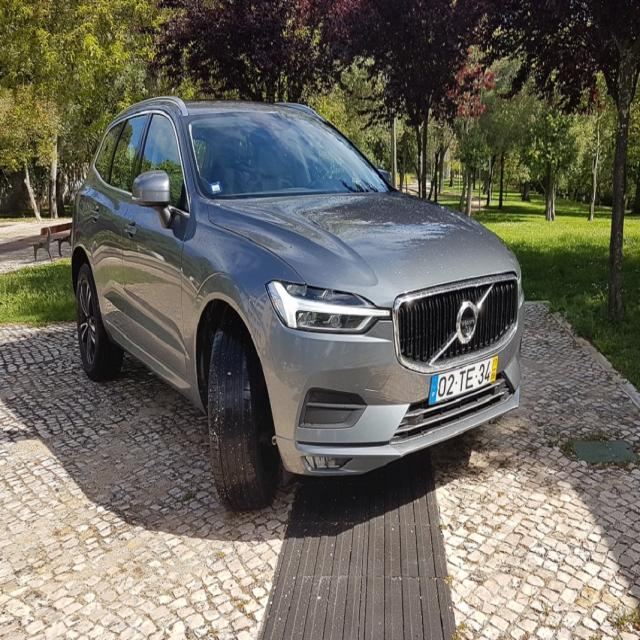portuguese-license-plates: (425, 352, 500, 410)
